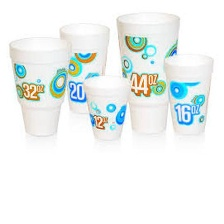paper_cup: (111, 7, 184, 138), (6, 32, 74, 141), (54, 18, 113, 117), (160, 48, 217, 138), (79, 73, 133, 145)
